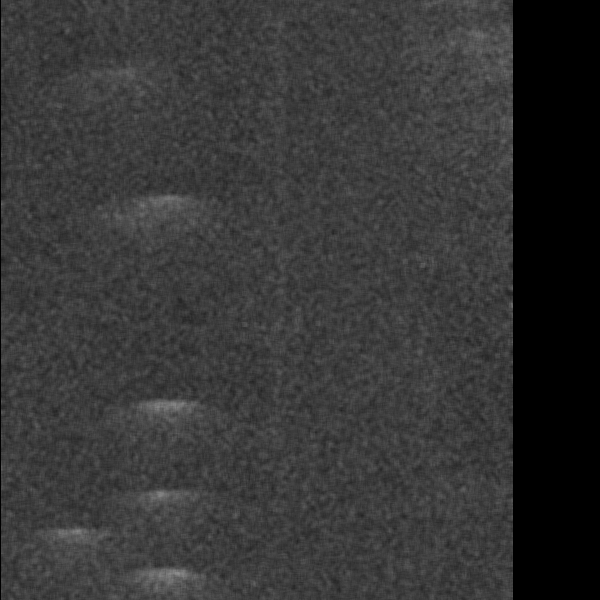spark: (275, 311, 395, 401), (228, 195, 324, 248), (73, 104, 124, 135)
